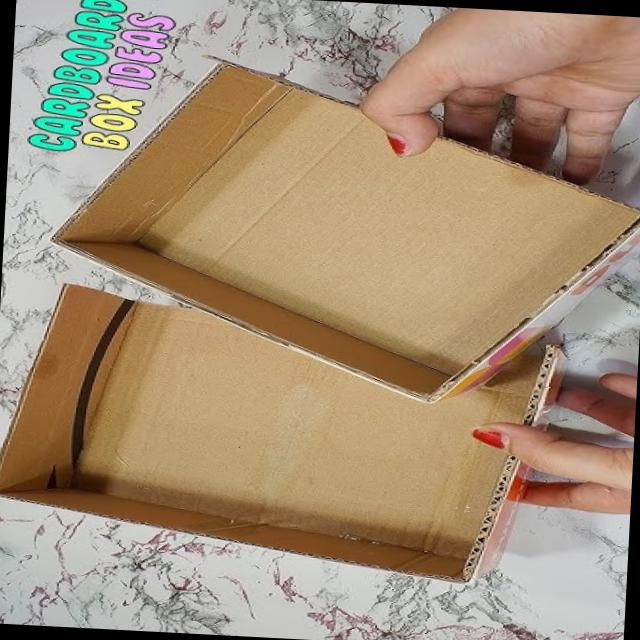cardboard_box: (28, 43, 640, 427), (0, 262, 587, 617)
